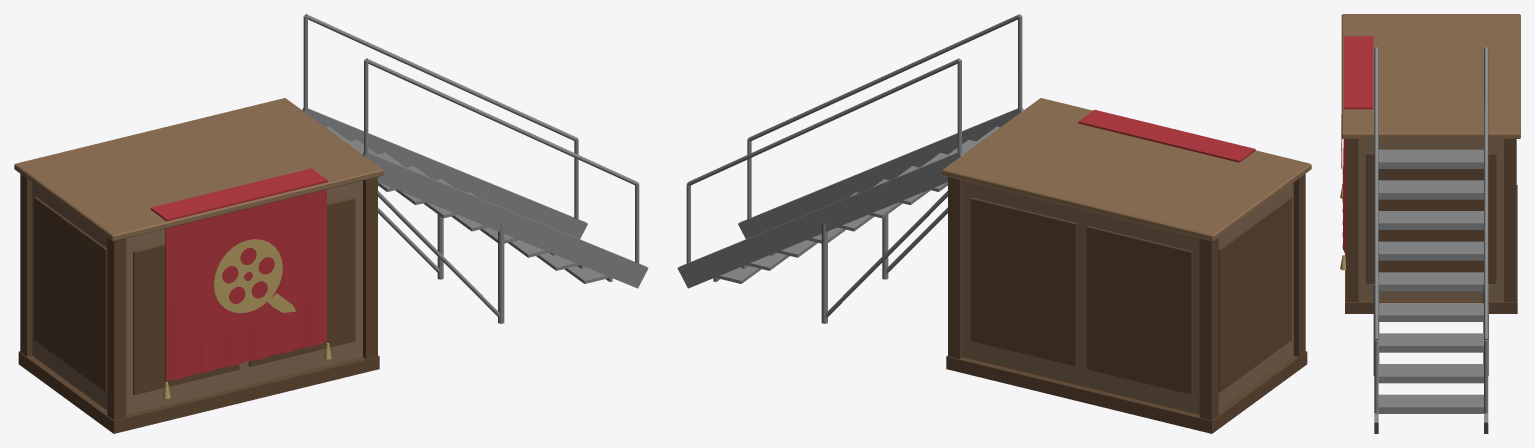
The model's file is turret_podium.glb.
The picture shows the model from 3 angles, left to right: view 1: azimuth 30°, elevation 25°; view 2: azimuth 150°, elevation 25°; view 3: azimuth 270°, elevation 25°; orthographic projection. The views are drawn at different scales.
Visible parts, largest first — view 1: dark_wood__turret_podium__solid, stage_wood__turret_podium__solid, velvet__turret_podium__solid, steel__turret_podium__solid, wood__turret_podium__solid, brass__turret_podium__ns, velvet__turret_podium__ns; view 2: dark_wood__turret_podium__solid, stage_wood__turret_podium__solid, steel__turret_podium__solid, wood__turret_podium__solid, velvet__turret_podium__solid; view 3: steel__turret_podium__solid, stage_wood__turret_podium__solid, dark_wood__turret_podium__solid, wood__turret_podium__solid, velvet__turret_podium__solid.
Boxes of the visible parts, x1=… form: dark_wood__turret_podium__solid: x1=18, y1=174, x2=379, y2=433; stage_wood__turret_podium__solid: x1=14, y1=98, x2=383, y2=241; velvet__turret_podium__solid: x1=150, y1=168, x2=327, y2=380; steel__turret_podium__solid: x1=302, y1=14, x2=648, y2=323; wood__turret_podium__solid: x1=32, y1=180, x2=362, y2=414; brass__turret_podium__ns: x1=163, y1=239, x2=331, y2=398; velvet__turret_podium__ns: x1=222, y1=248, x2=274, y2=303; dark_wood__turret_podium__solid: x1=946, y1=174, x2=1307, y2=433; stage_wood__turret_podium__solid: x1=942, y1=98, x2=1311, y2=241; steel__turret_podium__solid: x1=677, y1=14, x2=1023, y2=323; wood__turret_podium__solid: x1=963, y1=180, x2=1293, y2=414; velvet__turret_podium__solid: x1=1078, y1=109, x2=1255, y2=162; steel__turret_podium__solid: x1=1373, y1=47, x2=1488, y2=433; stage_wood__turret_podium__solid: x1=1341, y1=14, x2=1520, y2=138; dark_wood__turret_podium__solid: x1=1345, y1=139, x2=1517, y2=313; wood__turret_podium__solid: x1=1358, y1=139, x2=1503, y2=299; velvet__turret_podium__solid: x1=1342, y1=36, x2=1373, y2=254.
Bounding box in the file's own units: 5.5 × 2.81 × 1.72.
